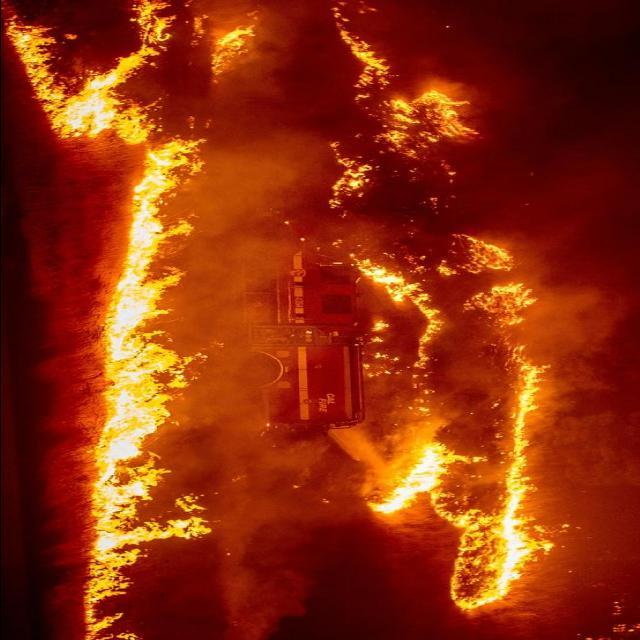Fire: (1, 9, 234, 640), (329, 15, 559, 611)
